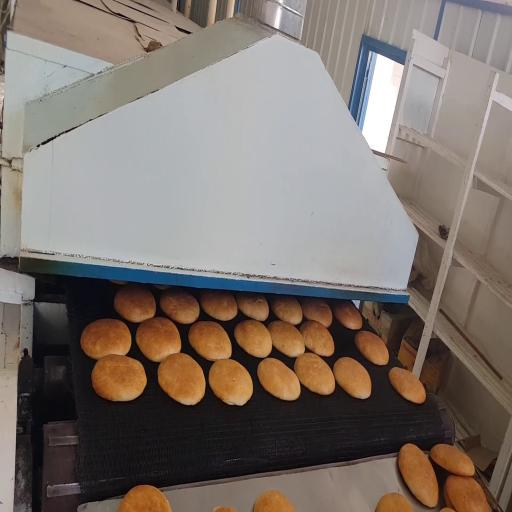bread: (398, 444, 438, 507), (92, 355, 146, 401), (158, 353, 205, 405), (209, 359, 253, 405), (81, 319, 131, 359), (136, 318, 181, 362), (258, 358, 300, 401), (294, 353, 335, 395), (189, 321, 231, 360), (114, 284, 155, 322), (334, 357, 371, 399), (445, 476, 489, 511), (234, 320, 272, 358), (430, 444, 474, 476), (118, 485, 171, 511), (389, 367, 426, 403), (268, 321, 305, 357), (160, 290, 199, 324), (300, 320, 334, 356), (355, 331, 389, 365), (200, 290, 237, 320), (236, 293, 269, 321), (301, 298, 332, 327), (271, 296, 302, 325), (254, 491, 295, 511), (334, 301, 362, 329), (376, 493, 413, 511), (443, 483, 452, 509), (154, 284, 170, 290), (214, 507, 237, 511), (111, 280, 126, 285), (441, 507, 455, 511)
